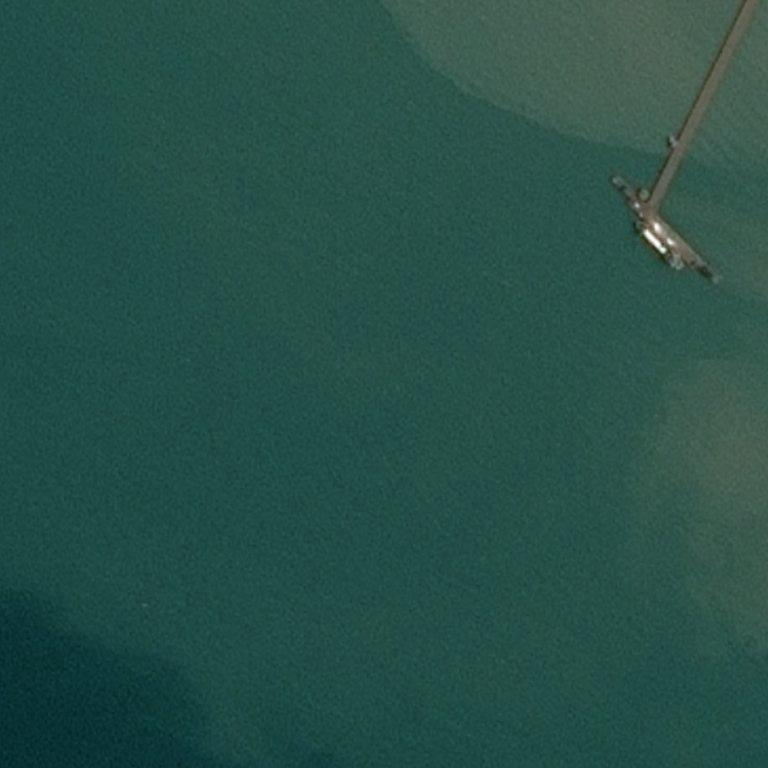ship: (594, 218, 647, 274)
